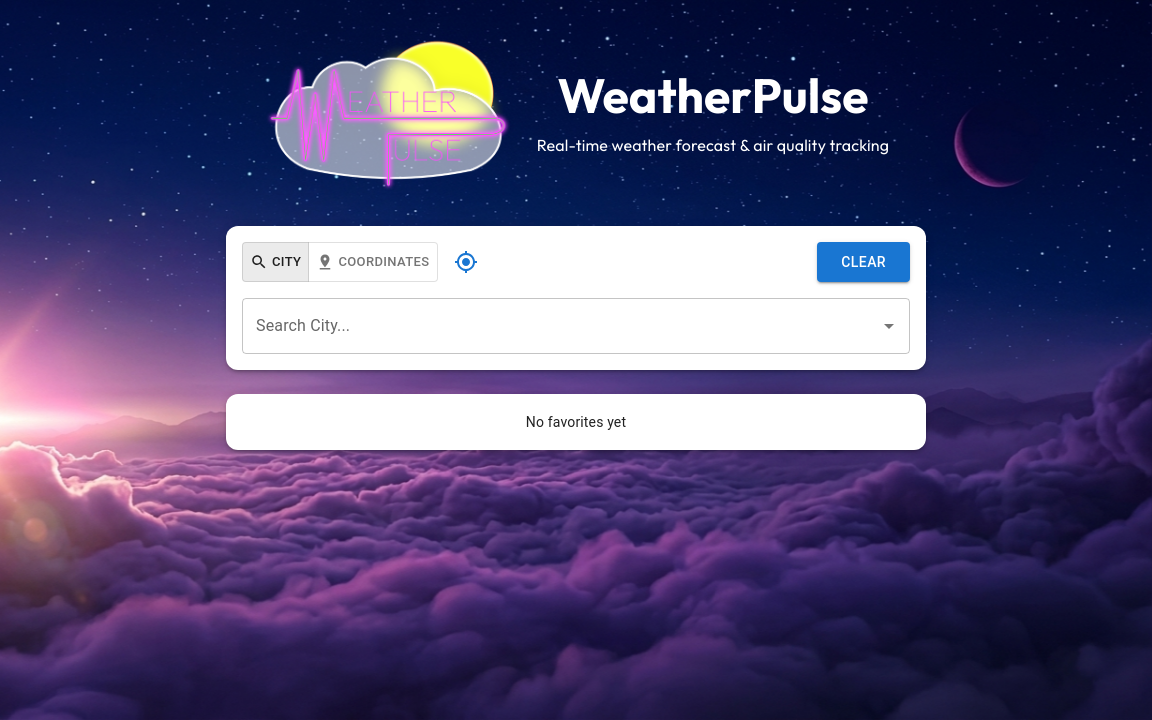
it: App › use my location › shows the geolocation error as a warning toast and does not fetch anything when permission is denied
Click the button named "use my location".
click(466, 262)  # box [446,242,486,282]
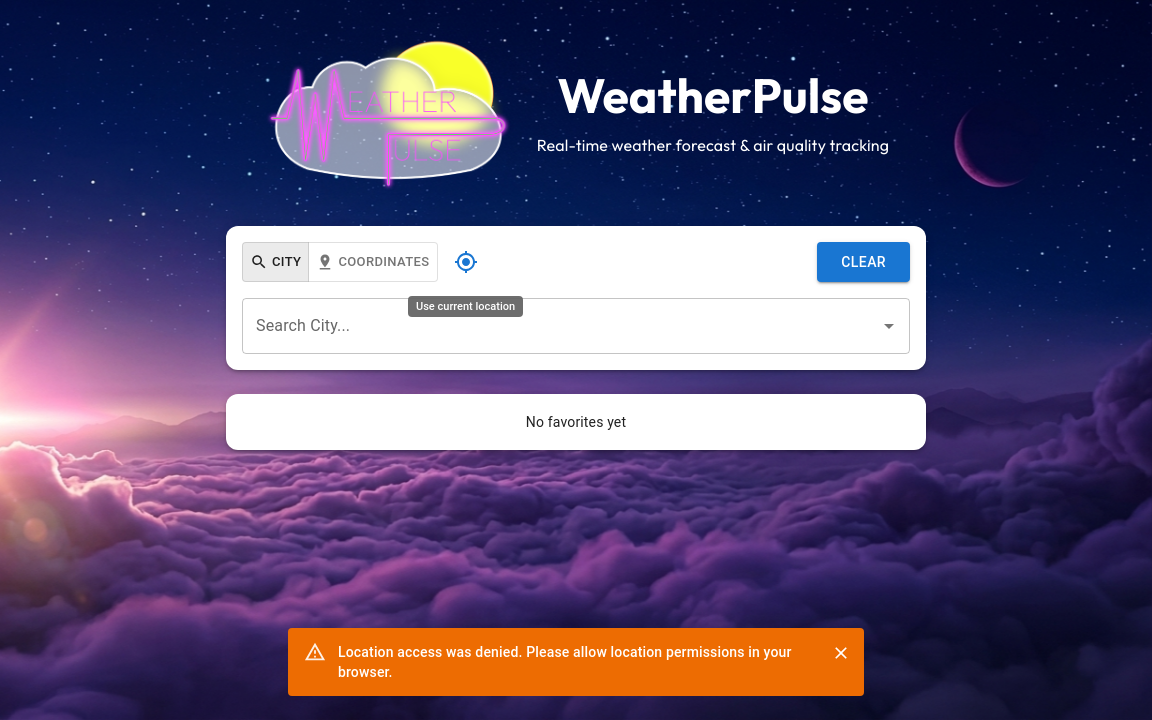
Expected: the message shows "Location access was denied", [338,644,792,680]
